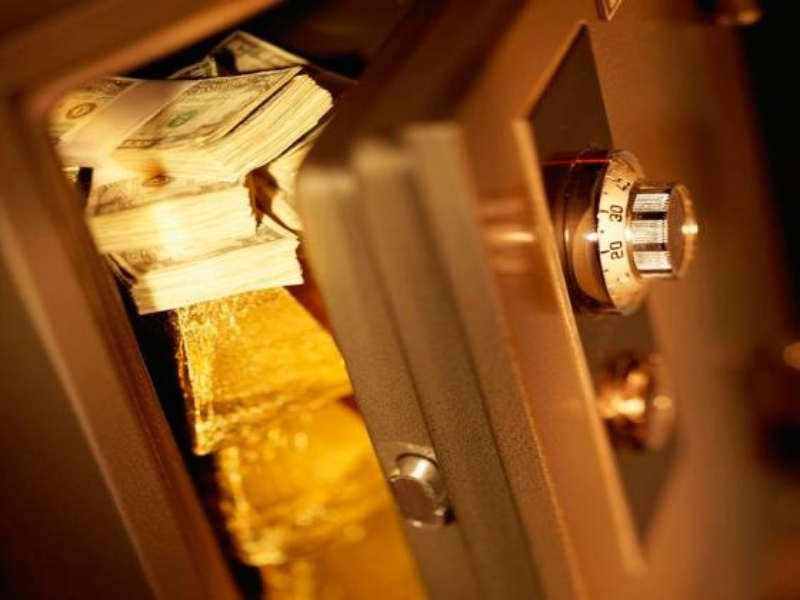cash: (47, 31, 335, 313)
